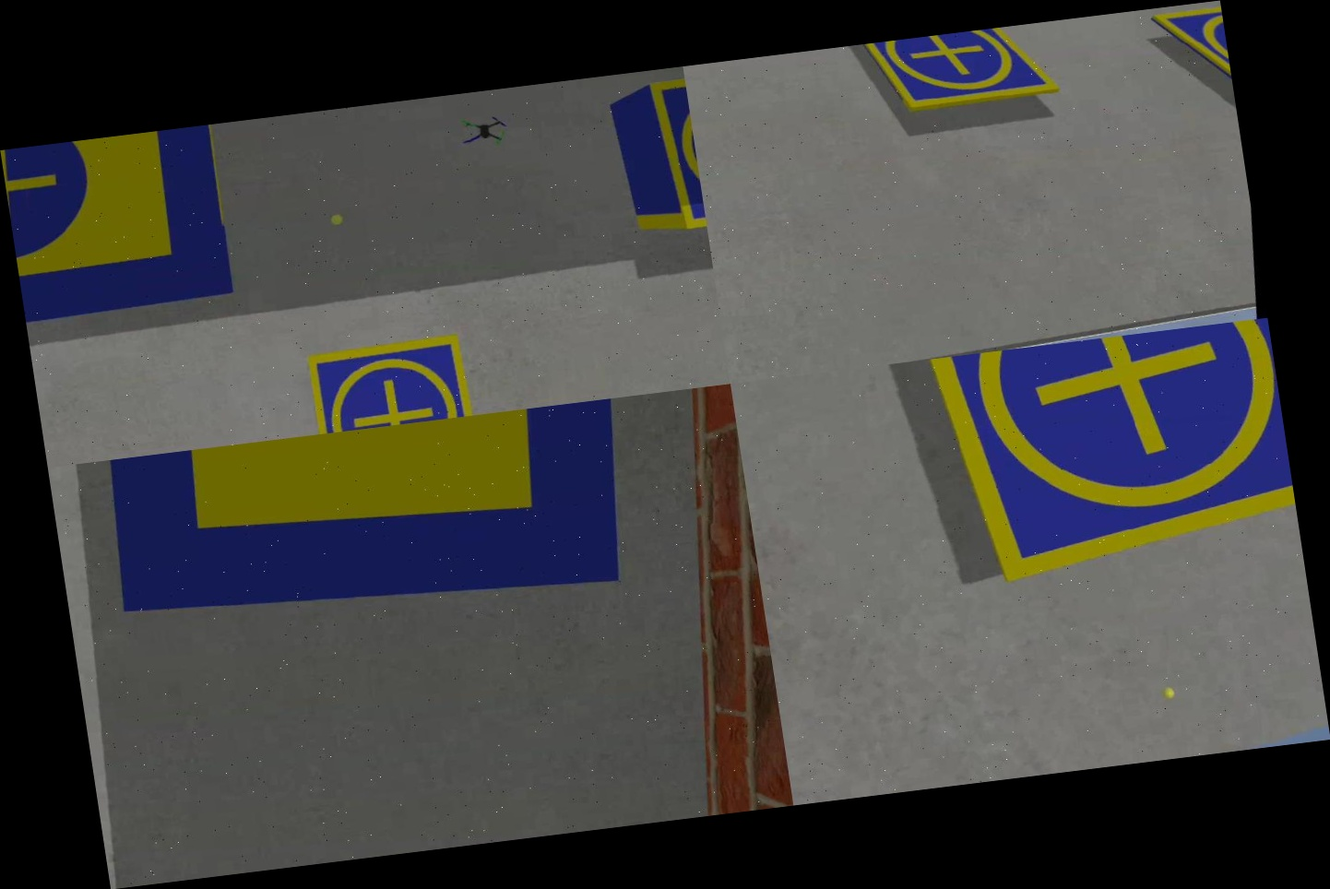large_base: (91, 397, 647, 657), (0, 121, 269, 366)
small_base: (875, 318, 1306, 626), (846, 20, 1071, 127), (290, 324, 493, 436), (629, 66, 709, 246), (1141, 0, 1232, 97)
